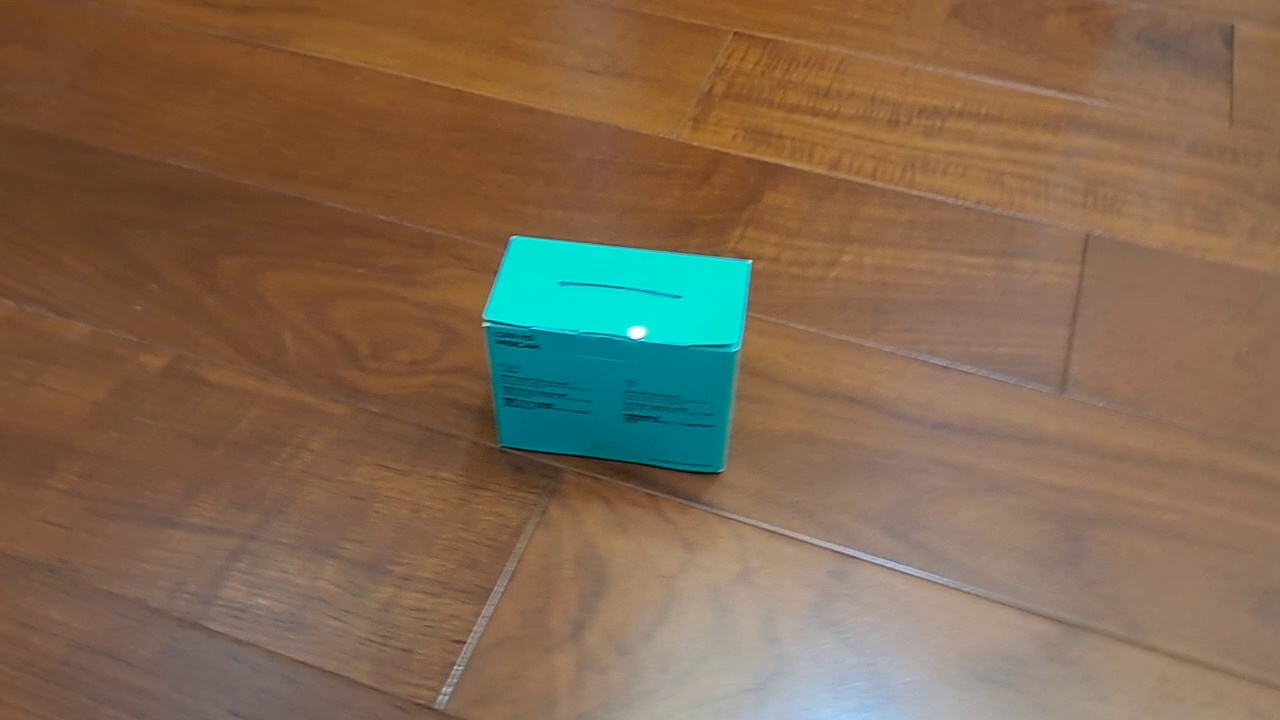webcam: (480, 233, 754, 476)
